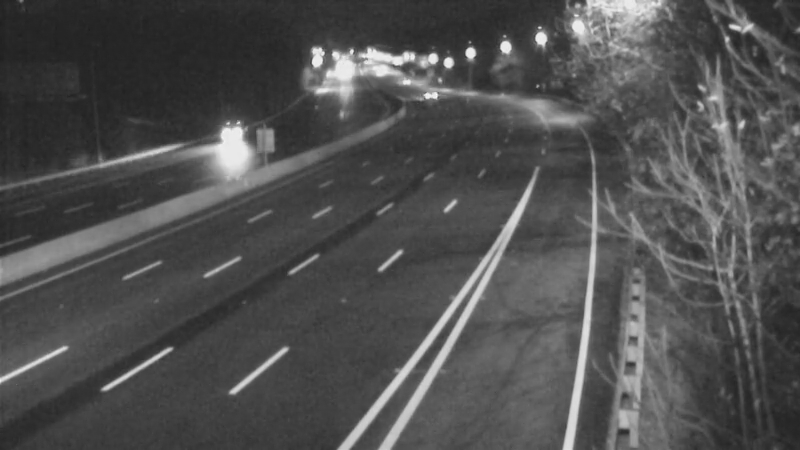vehicle: (397, 67, 447, 117), (209, 107, 259, 157)
